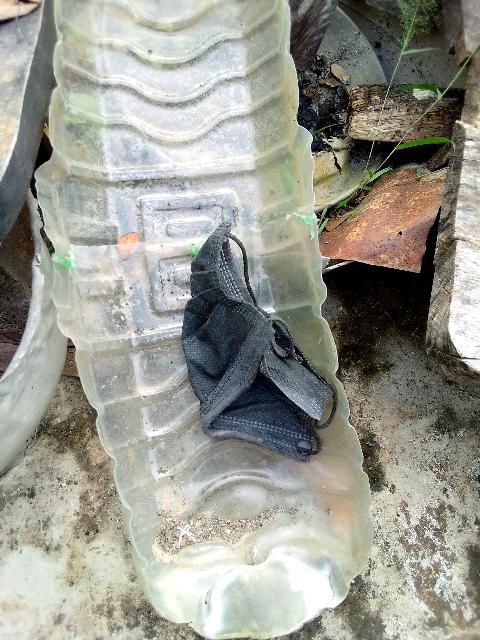mask: (189, 217, 343, 461)
